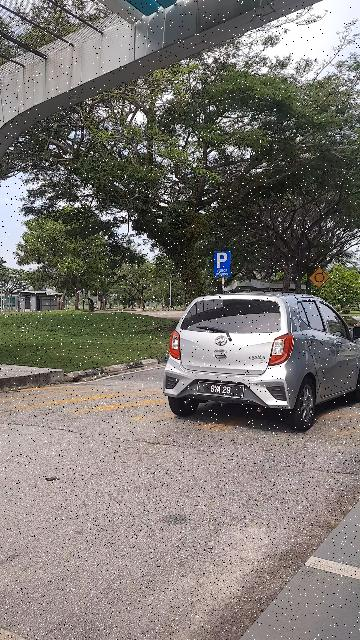License_Plate: (195, 378, 248, 401)
car: (163, 288, 360, 434)
